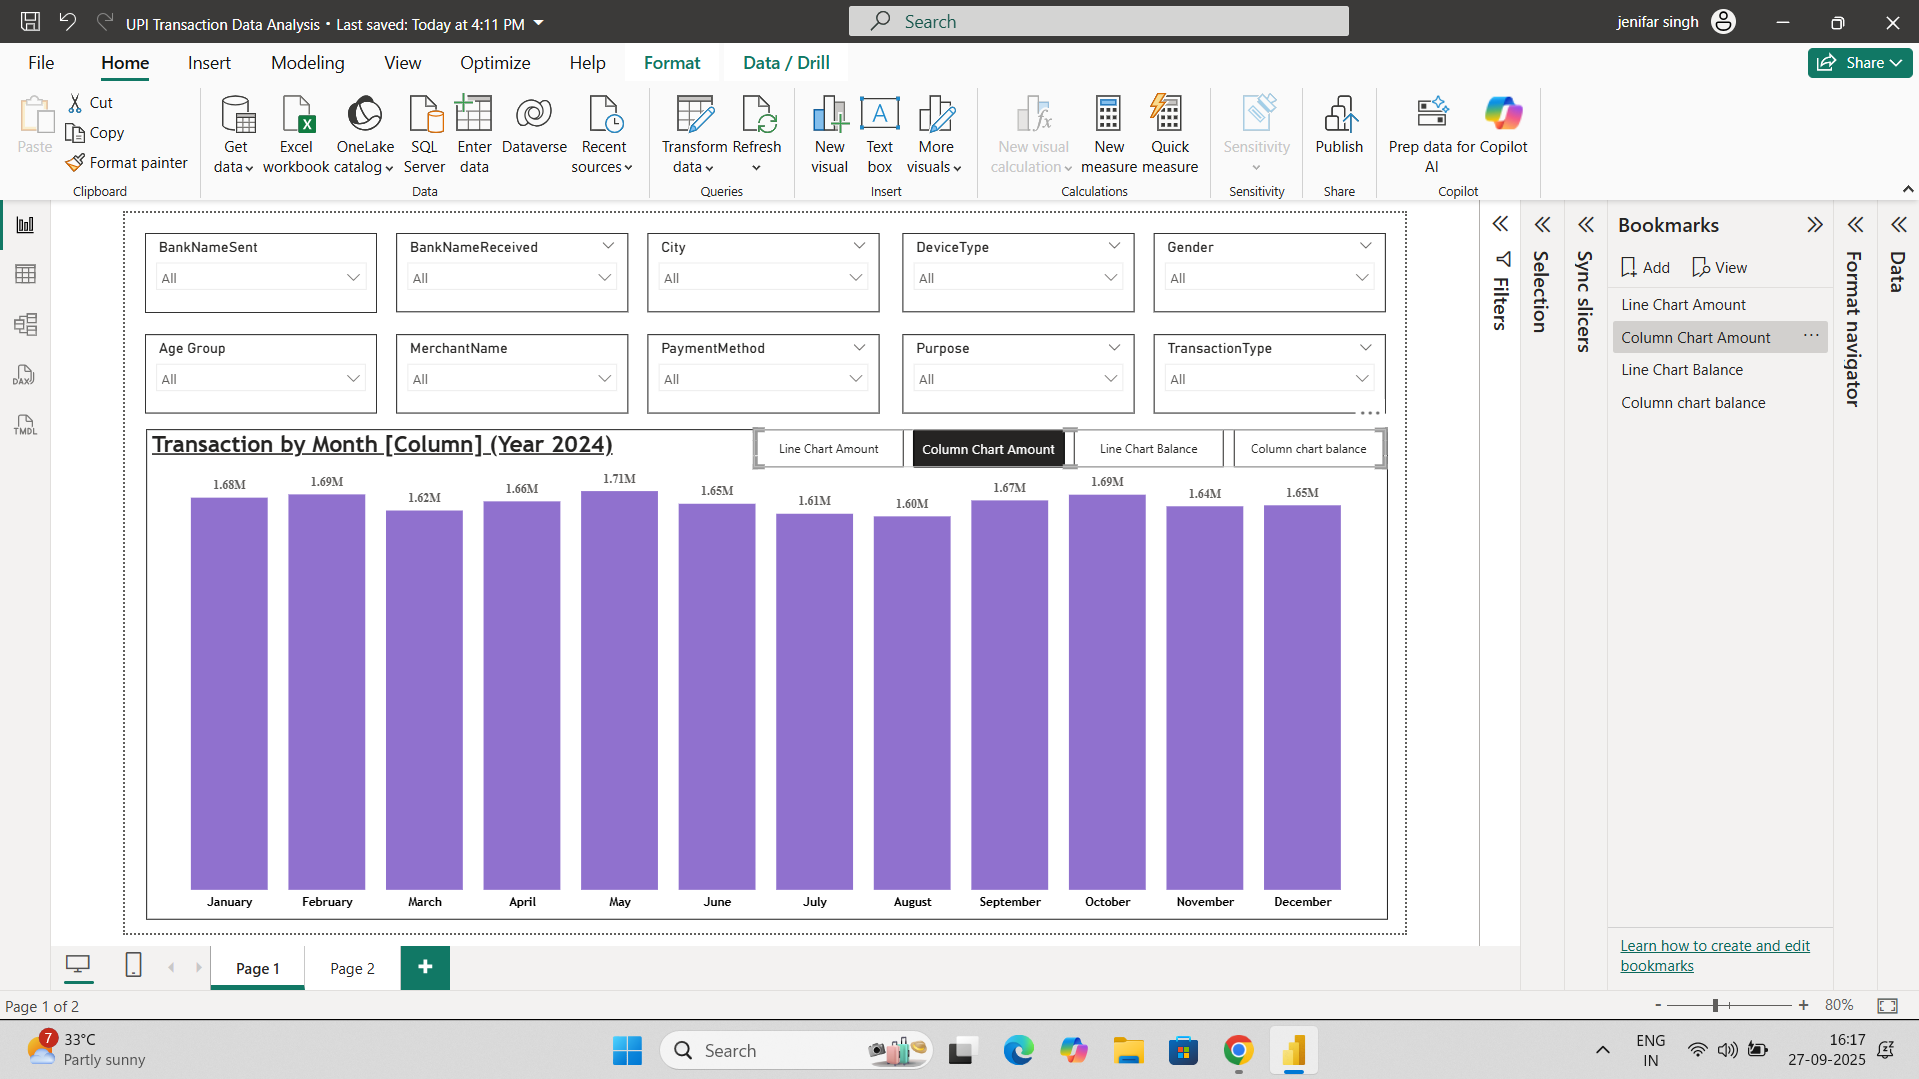

This screenshot's page, from the dashboard's own definition file:
{"tool":"powerbi","page":{"name":"Page 1","canvas":[1280,720],"ordinal":0},"visuals":[{"type":"slicer","fields":{"Values":["UPI transaction.BankNameSent"]},"box":[20,20,232,80],"z":0},{"type":"slicer","fields":{"Values":["UPI transaction.BankNameReceived"]},"box":[271.7,20.6,231.9,79.6],"z":1000},{"type":"slicer","fields":{"Values":["UPI transaction.City"]},"box":[522.8,20.6,231.9,79.6],"z":2000},{"type":"slicer","fields":{"Values":["UPI transaction.DeviceType"]},"box":[778,20.6,231.9,79.6],"z":3000},{"type":"slicer","fields":{"Values":["UPI transaction.Gender"]},"box":[1029.2,20.6,231.9,79.6],"z":4000},{"type":"slicer","fields":{"Values":["UPI transaction.Age Group"]},"box":[20.6,120.8,231.9,79.6],"z":5000},{"type":"slicer","fields":{"Values":["UPI transaction.MerchantName"]},"box":[271.7,120.8,231.9,79.6],"z":6000},{"type":"slicer","fields":{"Values":["UPI transaction.PaymentMethod"]},"box":[522.8,120.8,231.9,79.6],"z":7000},{"type":"slicer","fields":{"Values":["UPI transaction.Purpose"]},"box":[778,120.8,231.9,79.6],"z":8000},{"type":"slicer","fields":{"Values":["UPI transaction.TransactionType"]},"box":[1029.2,120.8,231.9,79.6],"z":9000},{"type":"columnChart","title":"Transaction by Month [Column] (Year 2024)","fields":{"Category":["UPI transaction.TransactionDate.Variation.Date Hierarchy.Month"],"Y":["Sum(UPI transaction.Amount)"]},"box":[21.2,216.2,1241.2,490],"z":11000},{"type":"bookmarkNavigator","box":[628.8,216.2,632.5,38.8],"z":15000}]}

Visuals, with their boxes on the page's 1280x720 design canvas (x1, y1, x2, y2). These are canvas units, not pixel positions in the 1919x1079 screenshot, which may show the page scaled, cropped or inside an application window:
slicer - UPI transaction.BankNameSent: box=[20, 20, 252, 100]
slicer - UPI transaction.BankNameReceived: box=[272, 21, 504, 100]
slicer - UPI transaction.City: box=[523, 21, 755, 100]
slicer - UPI transaction.DeviceType: box=[778, 21, 1010, 100]
slicer - UPI transaction.Gender: box=[1029, 21, 1261, 100]
slicer - UPI transaction.Age Group: box=[21, 121, 252, 200]
slicer - UPI transaction.MerchantName: box=[272, 121, 504, 200]
slicer - UPI transaction.PaymentMethod: box=[523, 121, 755, 200]
slicer - UPI transaction.Purpose: box=[778, 121, 1010, 200]
slicer - UPI transaction.TransactionType: box=[1029, 121, 1261, 200]
"Transaction by Month [Column] (Year 2024)" columnChart: box=[21, 216, 1262, 706]
bookmarkNavigator: box=[629, 216, 1261, 255]
